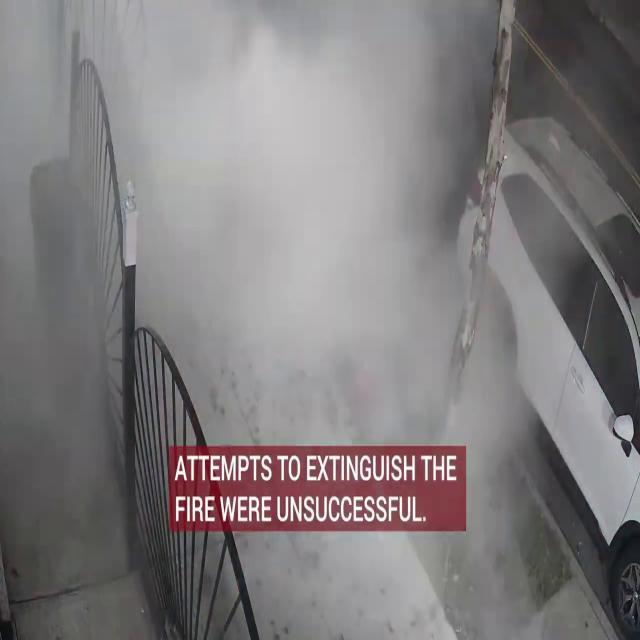Smoke: (1, 1, 515, 449)
